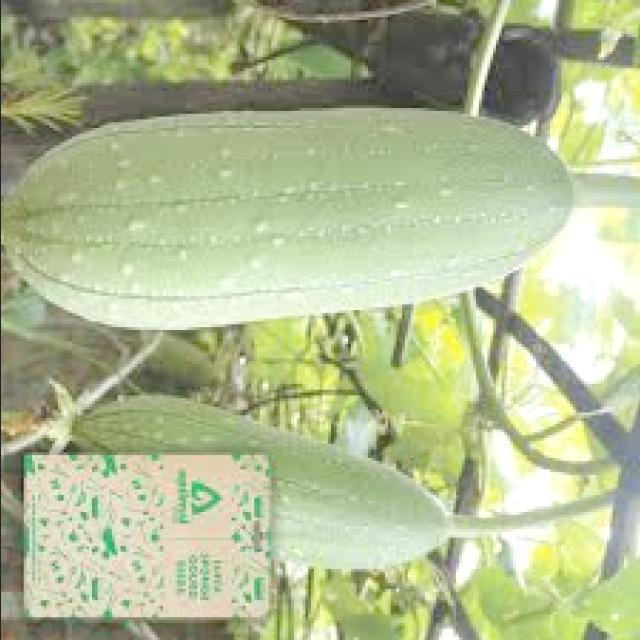Sponge Gourd: (1, 113, 606, 337), (41, 407, 495, 598)
